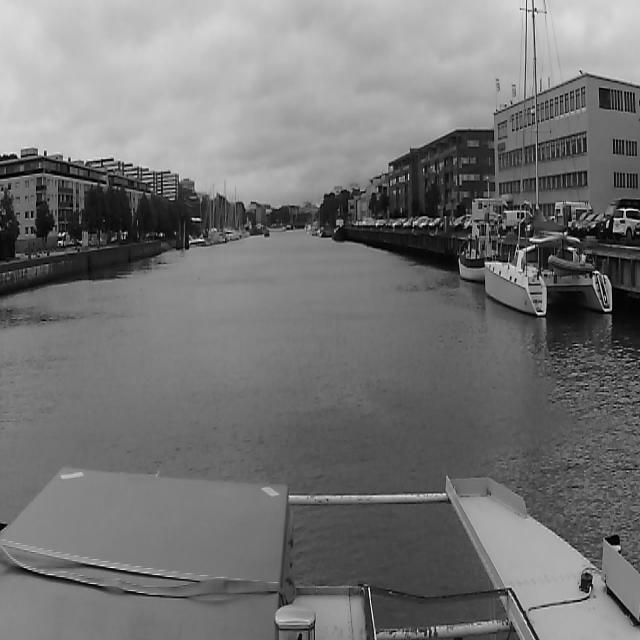ship: (486, 0, 614, 319), (458, 218, 486, 282), (332, 206, 346, 242)
